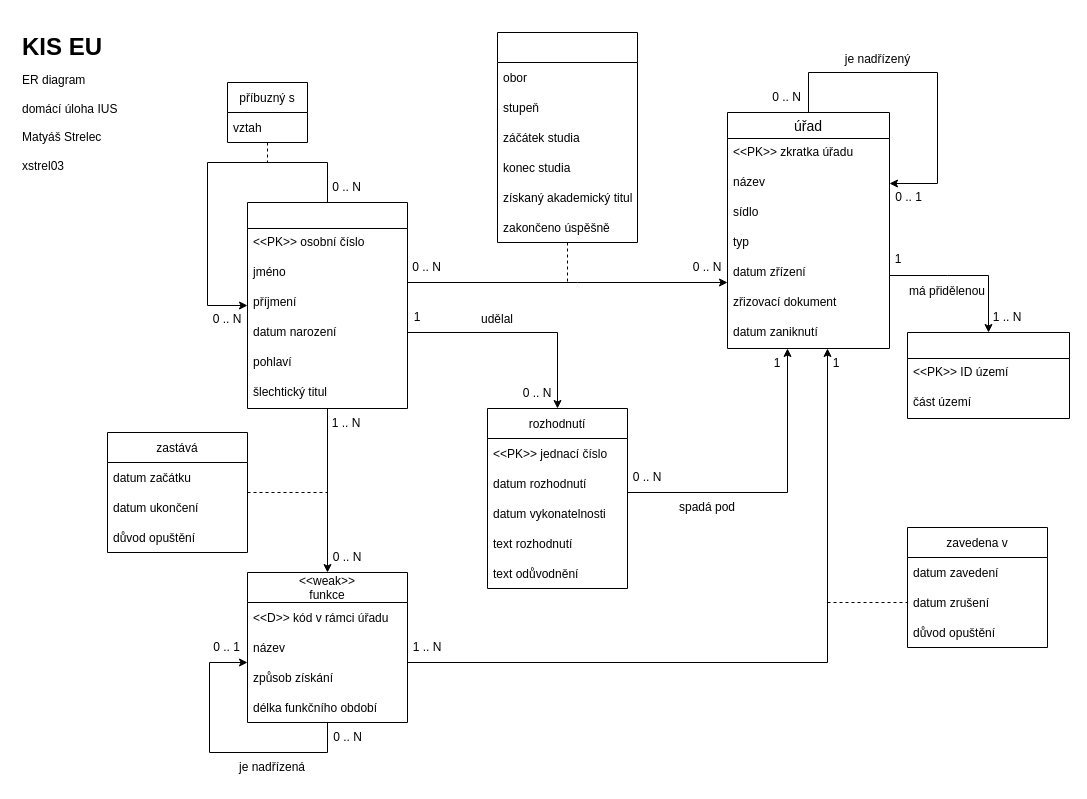
Image size: 1087x799. Some labels were removed from this diagram. Here are the shapes that lost their labels. From the top down, the box of each, then its label:
(496, 32, 638, 242): studoval
(246, 202, 408, 408): úředník
(906, 332, 1070, 418): územní působnost
